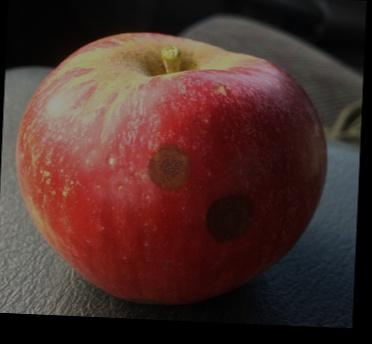rotten apple: (14, 33, 327, 304)
